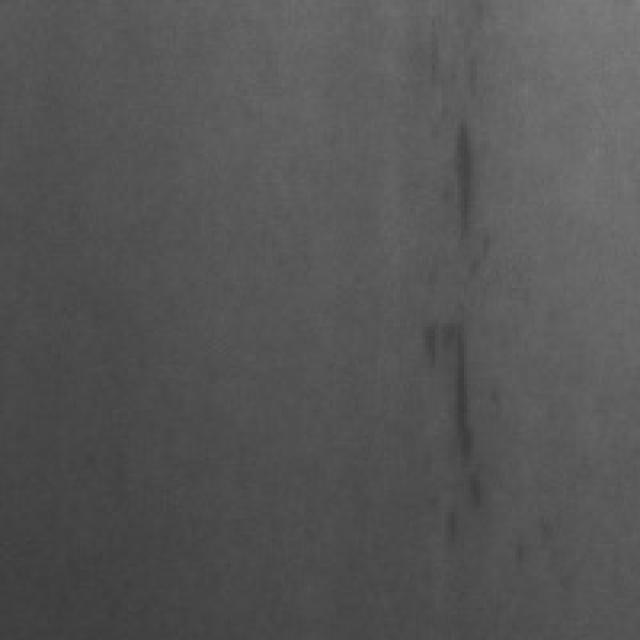inclusion: (413, 307, 493, 554), (432, 96, 486, 253)
